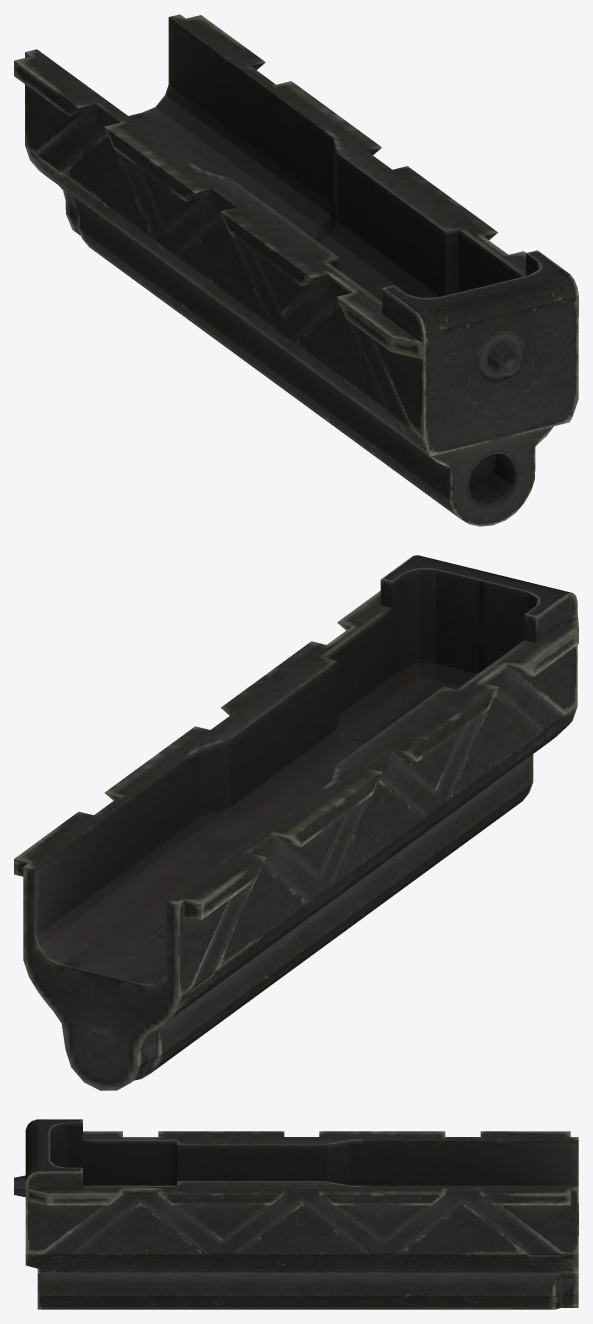
3 renders of one model, top to bottom at view 1: azimuth 30°, elevation 25°; view 2: azimuth 150°, elevation 25°; view 3: azimuth 270°, elevation 25°, orthographic. The views are drawn at different scales.
Parts seen in each view (by area): view 1: TW_5b0bbe4e5acfc40dc528a72d_PZ_Import; view 2: TW_5b0bbe4e5acfc40dc528a72d_PZ_Import; view 3: TW_5b0bbe4e5acfc40dc528a72d_PZ_Import.
Boxes of the visible parts, box(x1,y1,x2,y2) form: TW_5b0bbe4e5acfc40dc528a72d_PZ_Import: box(14, 14, 578, 526); TW_5b0bbe4e5acfc40dc528a72d_PZ_Import: box(14, 555, 578, 1090); TW_5b0bbe4e5acfc40dc528a72d_PZ_Import: box(14, 1119, 578, 1309).
Size of the model in its own units: 0.0175 by 0.066 by 0.0208.
Materials: 1 (1 with a texture image).
